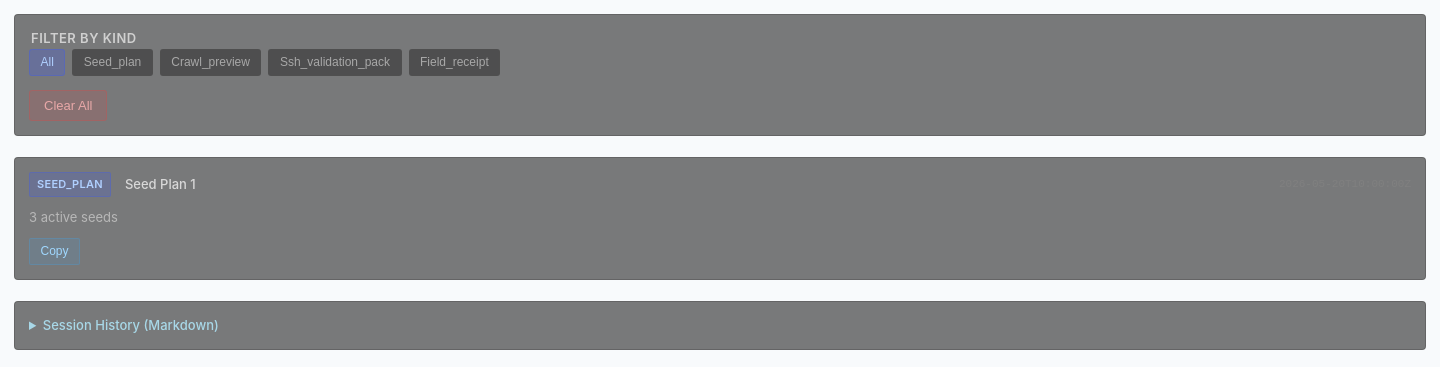
Test: FieldReceiptsPanel › shows 'No entries' message when filter narrows to zero results
Filter by a kind with no entries
Click the button with test id "frp-filter-crawl_preview".
click(211, 62)  # box [160,48,261,76]
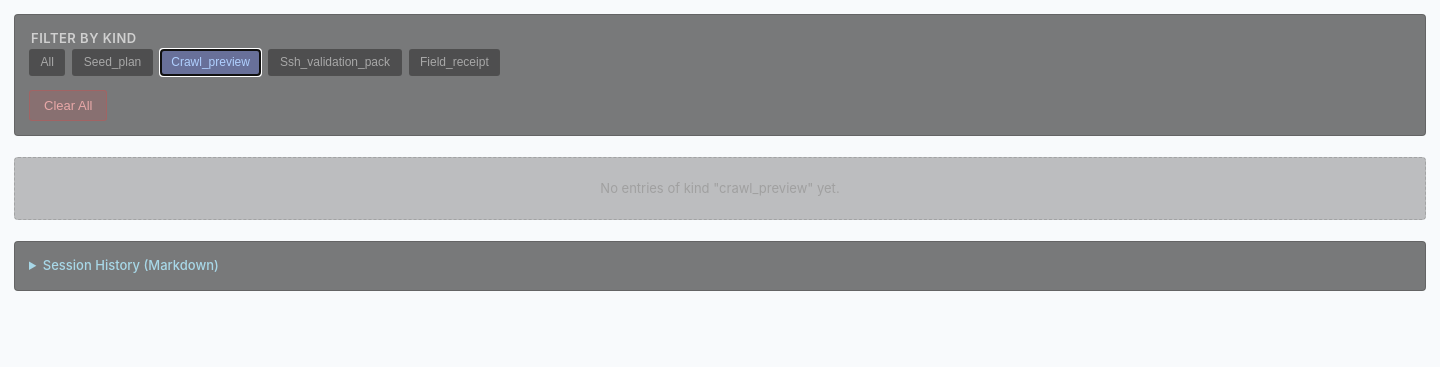
Result: the element with test id "frp-no-entries" is shown at [14,157,1426,220]
Result: the text "No entries of kind \"crawl_preview\" yet." is shown at [600,180,840,196]
